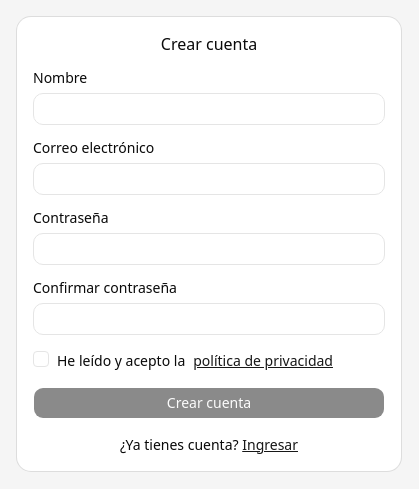
it: RegistroPage › registra y navega a verificación
The width and height of the screenshot is (419, 489).
In the field labelled "Nombre": (209, 109) 33,93 -> 385,125, type "Ana Torres"
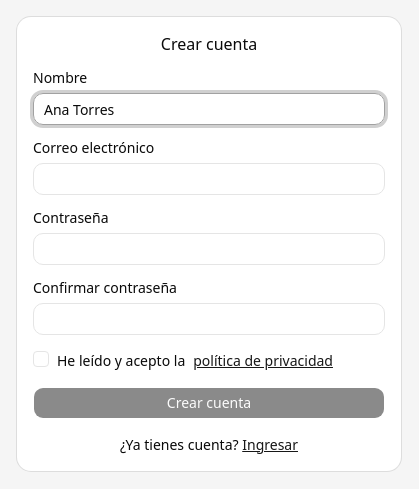
In the field labelled "Correo electrónico": (209, 179) 33,163 -> 385,195, type "ana@ejemplo.ec"
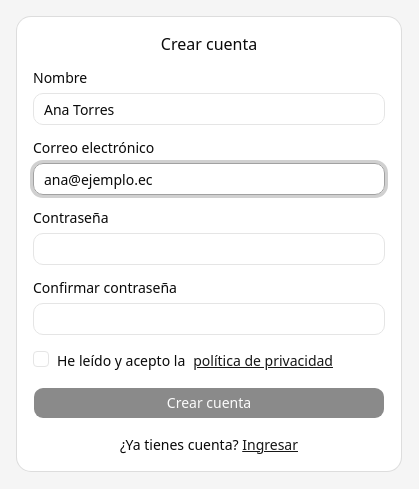
In the password field labelled "Contraseña": (209, 249) 33,233 -> 385,265, type "abc12345"
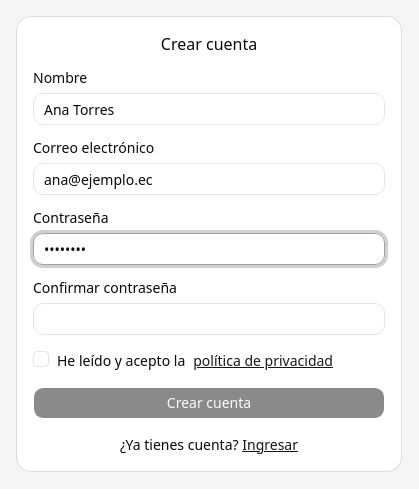
In the password field labelled "Confirmar contraseña": (209, 319) 33,303 -> 385,335, type "abc12345"
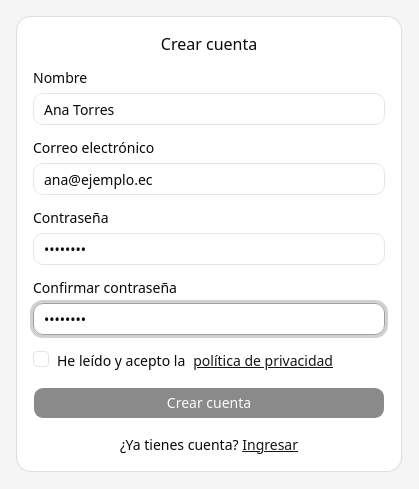
Click the checkbox named "acepto la": (41, 359) 33,351 -> 49,367
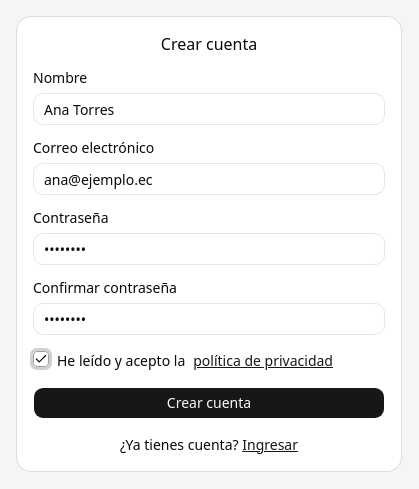
Click the button "Crear cuenta": (209, 403) 33,387 -> 385,419
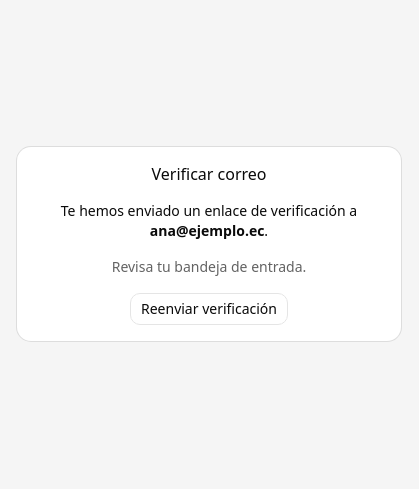
Now the text "Revisa tu bandeja de entrada." is shown, box 112,257 -> 306,276
